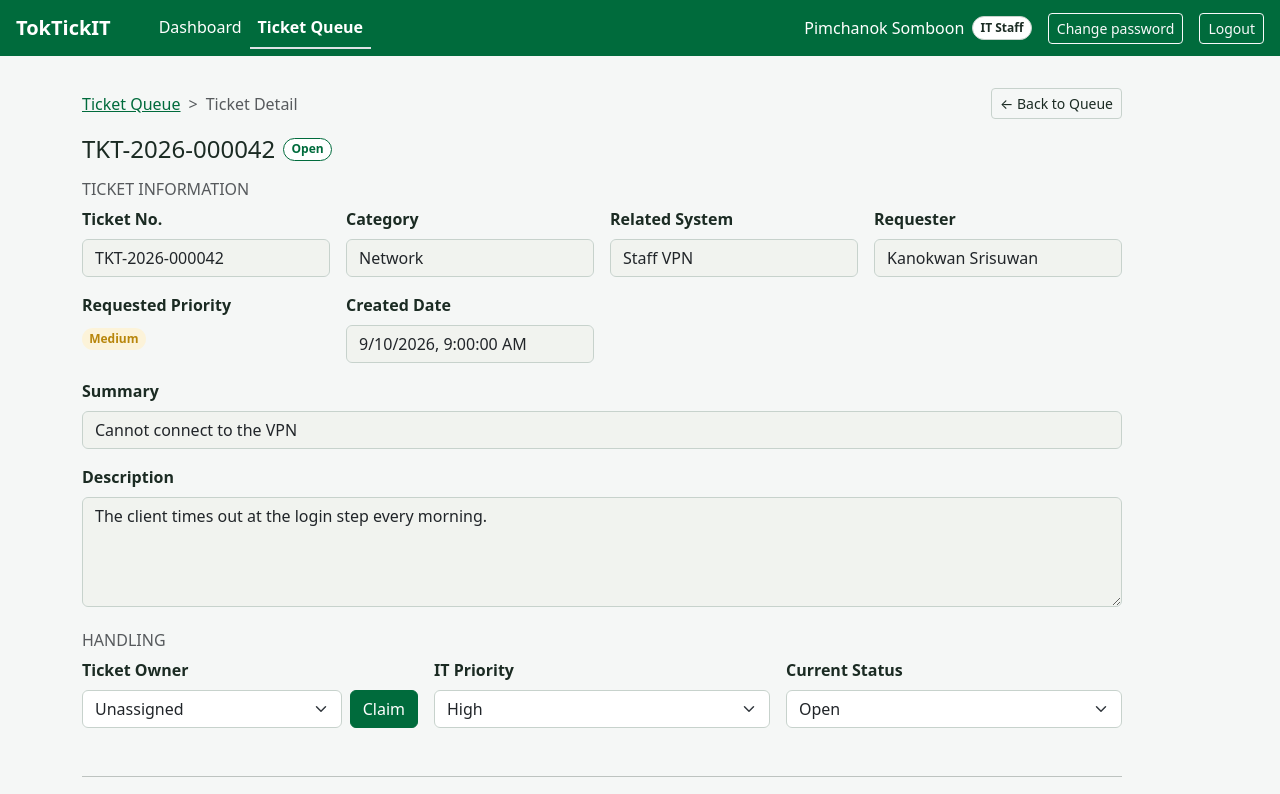
Test: Staff Ticket Detail: reading › goes back to the queue as it was left when it was reached from the queue, and to the default queue when it was not
Expected: the heading "TKT-2026-000042" is shown, [82,135,275,164]
Note: Opened directly, with no queue behind it: the default queue.
Click the button "← Back to Queue" at (1056, 104), box [991,88,1122,119]
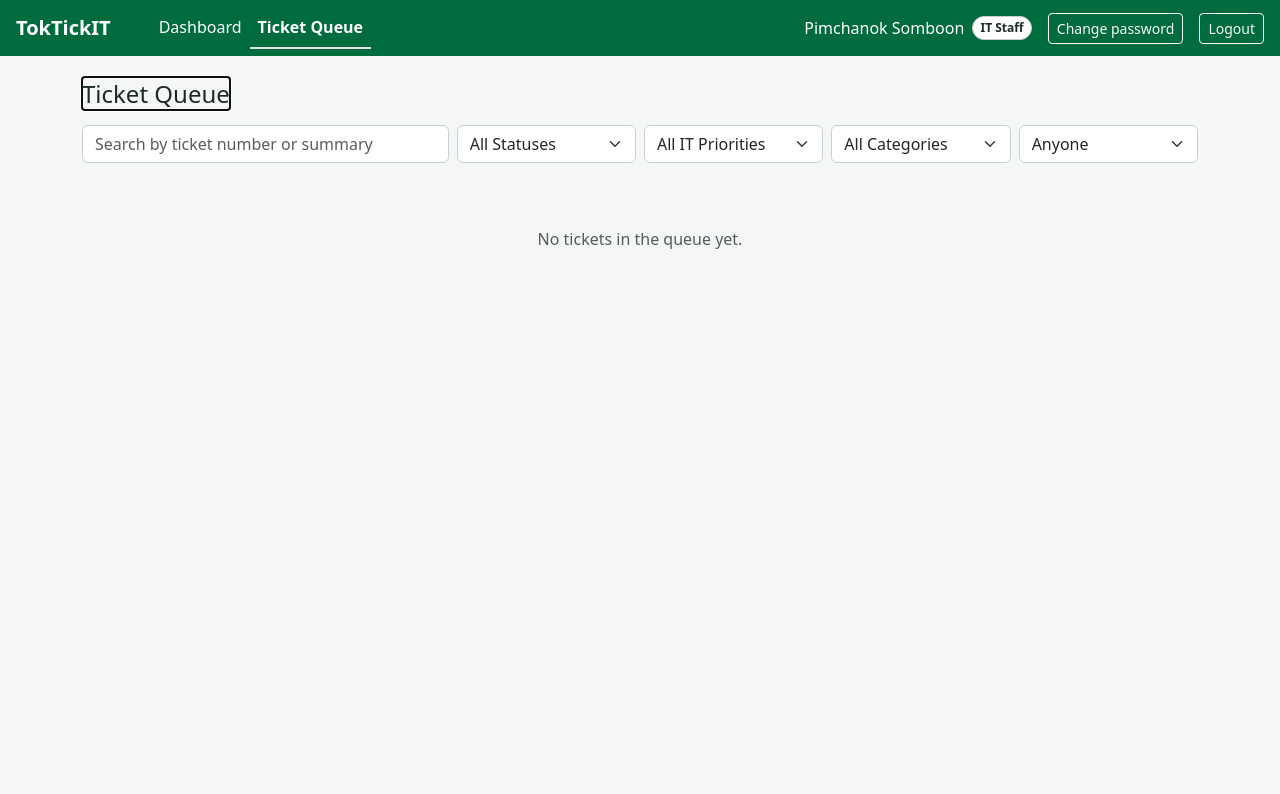
Now the heading "Ticket Queue" is shown, box [82,80,230,109]
